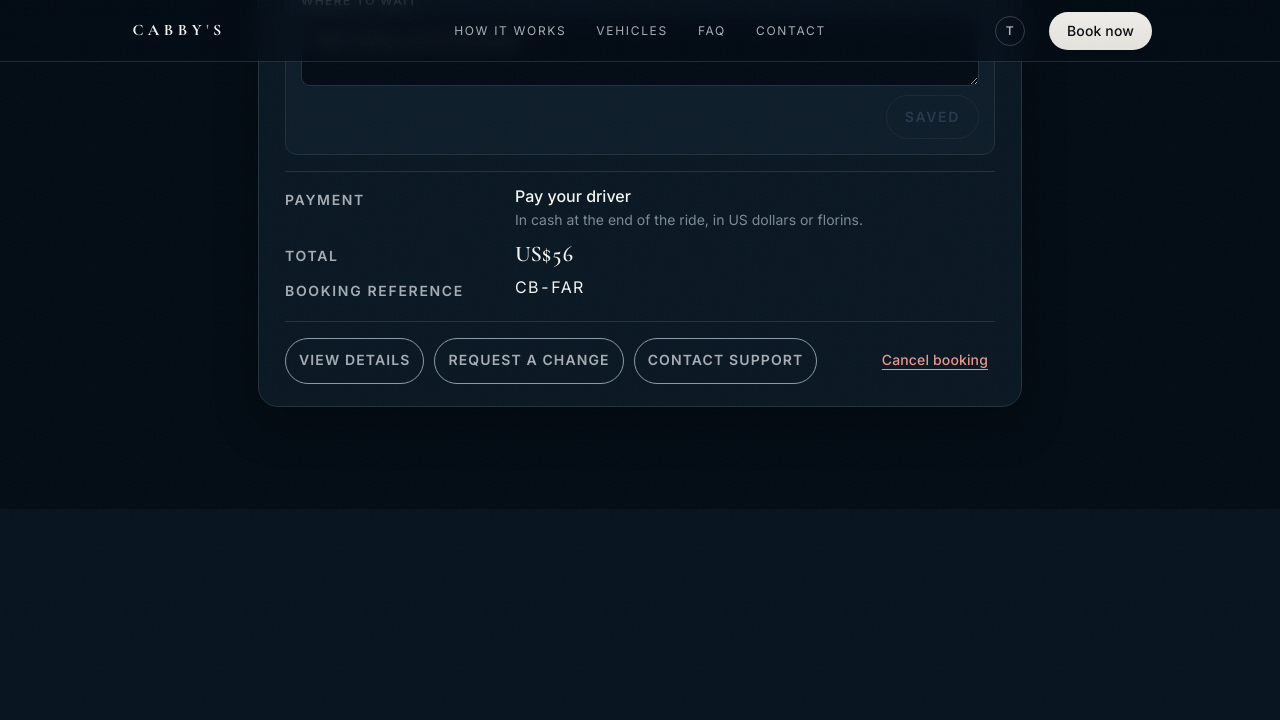
Test case: cancelling › moves the trip to Cancelled only once the database confirms it
(page scrolled)
Click the button "Cancel booking" at [935, 360], box [875,338,995,384]
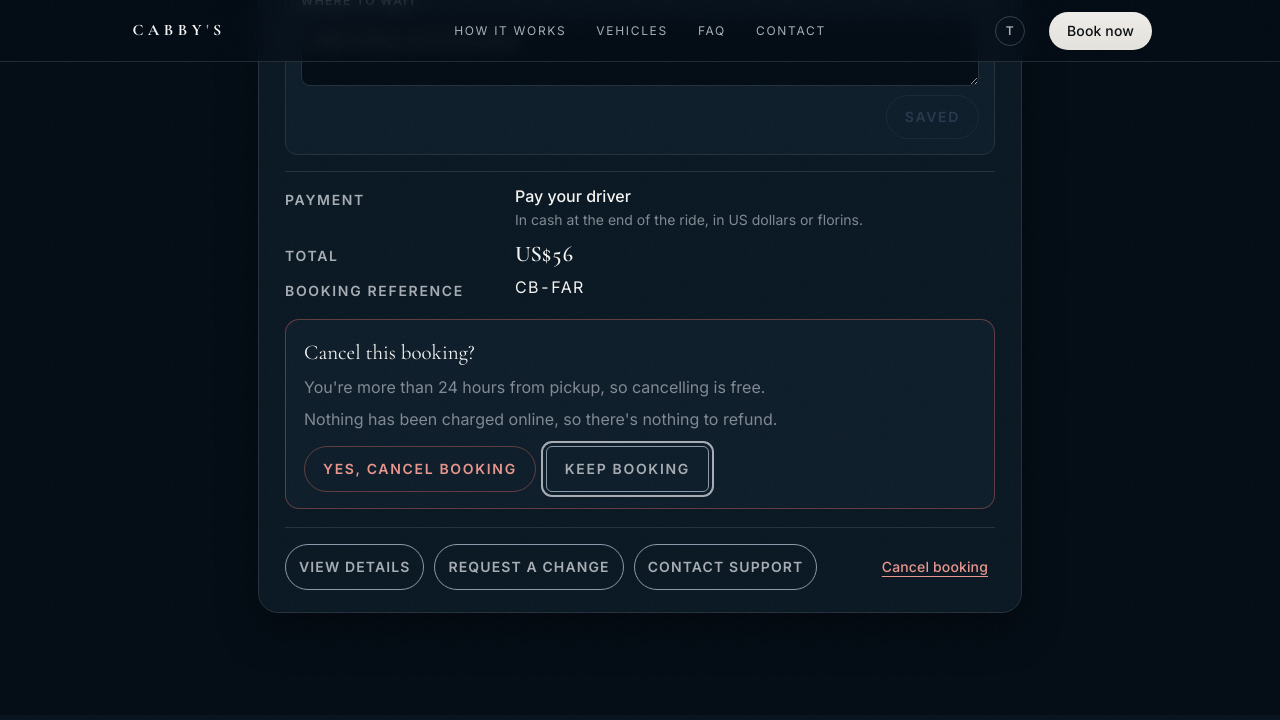
Click the button "Yes, cancel booking" at [420, 469], box [304,446,536,492]
(page scrolled)
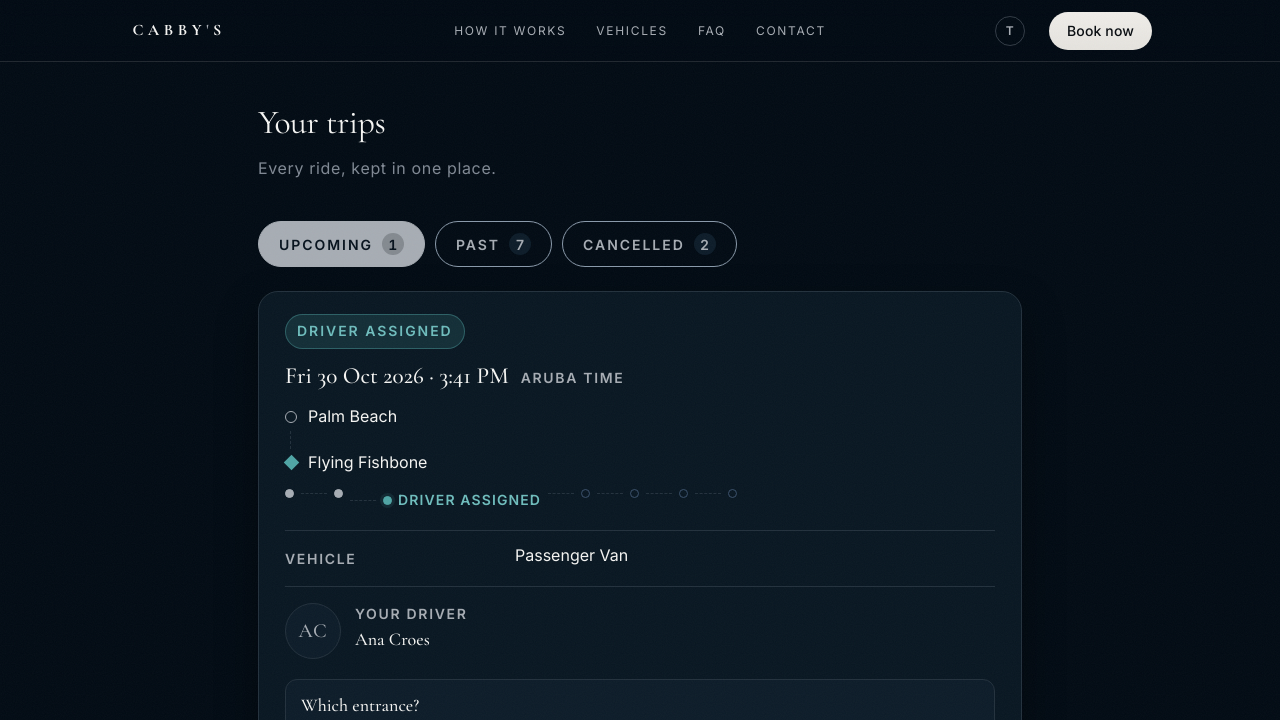
Expected: the tab "Cancelled 2" is shown, [562,221,737,267]
